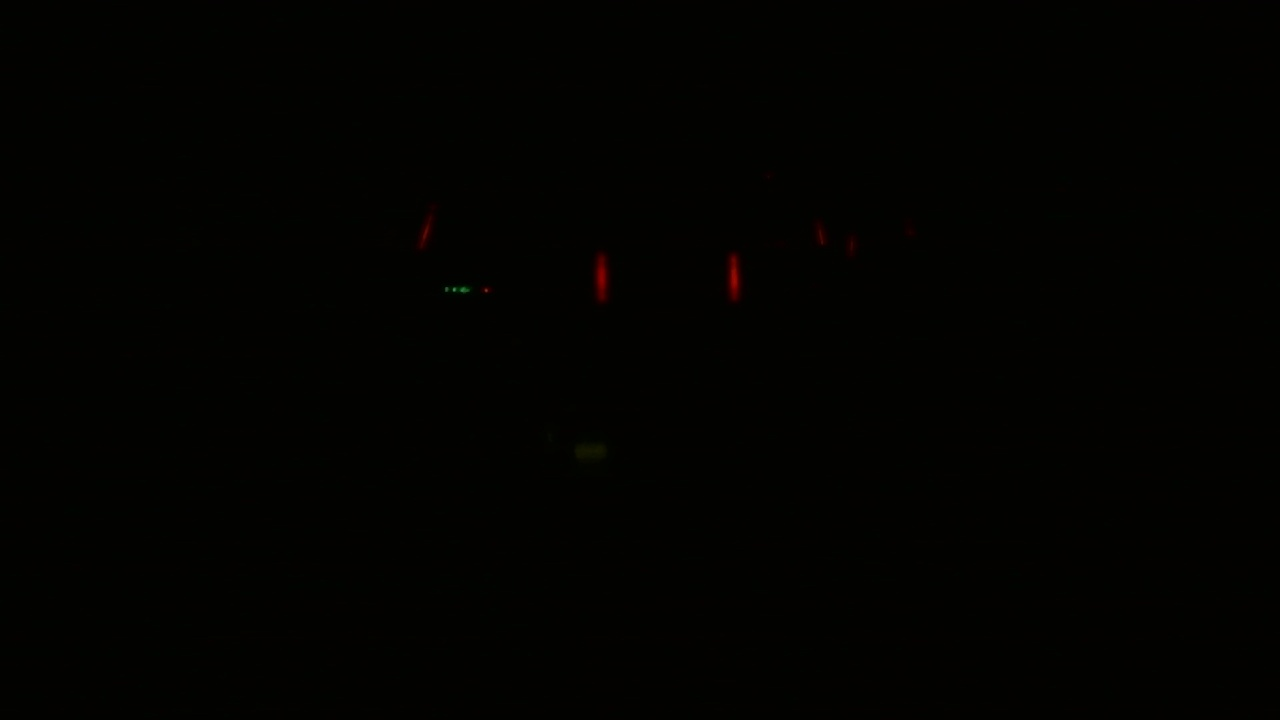pair1: (593, 246, 739, 302)
